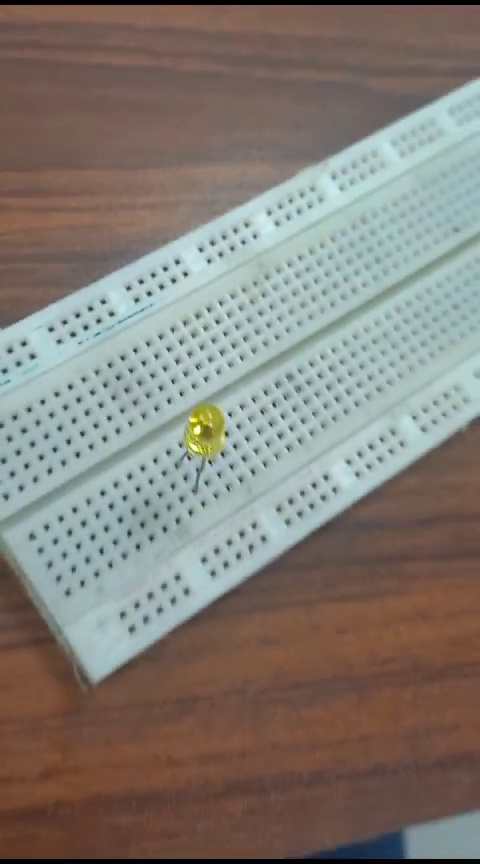LED: (170, 396, 222, 497)
